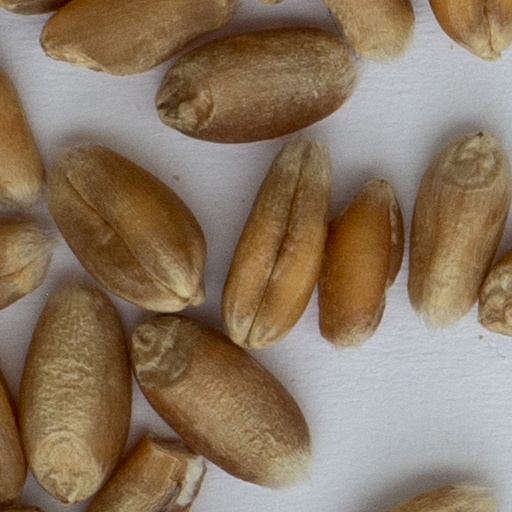Wheat-grain-damaged-poly: (84, 429, 204, 511)
